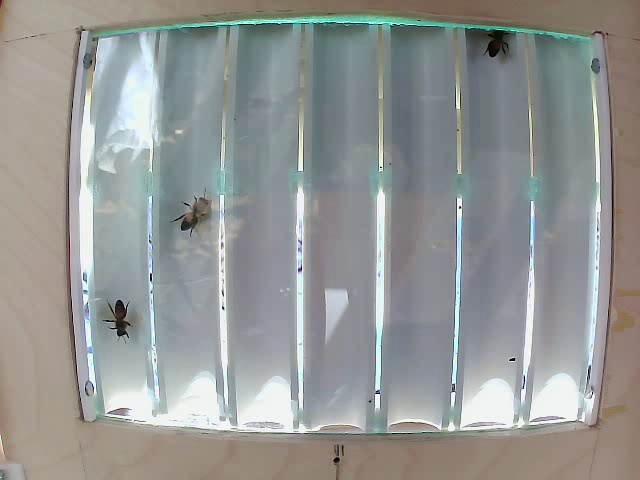bee: (97, 295, 142, 350), (173, 188, 221, 238), (484, 27, 511, 72)
